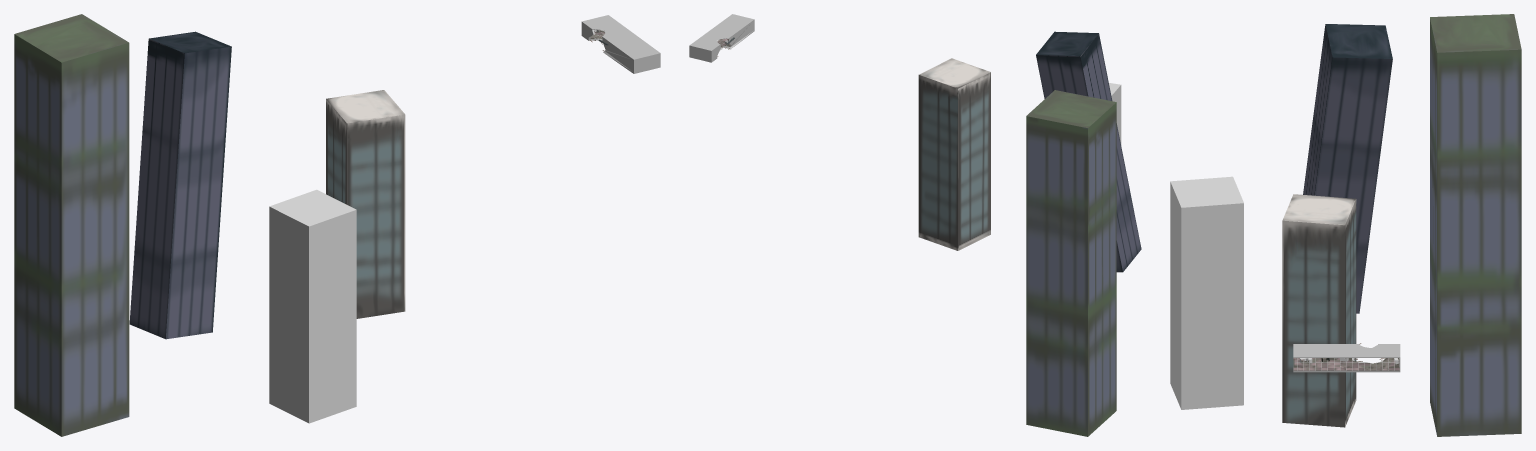
Rendered from Dayfall_Scene1 (2).fbx.
The picture shows the model from 3 angles, left to right: view 1: azimuth 30°, elevation 25°; view 2: azimuth 150°, elevation 25°; view 3: azimuth 270°, elevation 25°; orthographic projection. The views are drawn at different scales.
Parts seen in each view (by area): view 1: SkySCR2, SkySCR3, SkySCR1.001, SkySCR1, Body; view 2: SkySCR2, SkySCR1, SkySCR3, Body; view 3: SkySCR2, SkySCR1.001, SkySCR1, SkySCR3, Body, Flooring.
Part boxes in pixels (<box>): SkySCR2: <box>14,14,129,436</box>; SkySCR3: <box>129,31,231,339</box>; SkySCR1.001: <box>269,189,356,423</box>; SkySCR1: <box>326,90,405,318</box>; Body: <box>581,15,660,73</box>; SkySCR2: <box>1026,90,1116,436</box>; SkySCR1: <box>918,58,990,250</box>; SkySCR3: <box>1036,31,1141,272</box>; Body: <box>689,14,754,62</box>; SkySCR2: <box>1430,14,1521,436</box>; SkySCR1.001: <box>1170,176,1243,409</box>; SkySCR1: <box>1282,194,1356,427</box>; SkySCR3: <box>1303,24,1392,313</box>; Body: <box>1293,344,1400,372</box>; Flooring: <box>1293,358,1399,370</box>.
Bounding box in the file's own units: 11017 × 6063 × 7877.
